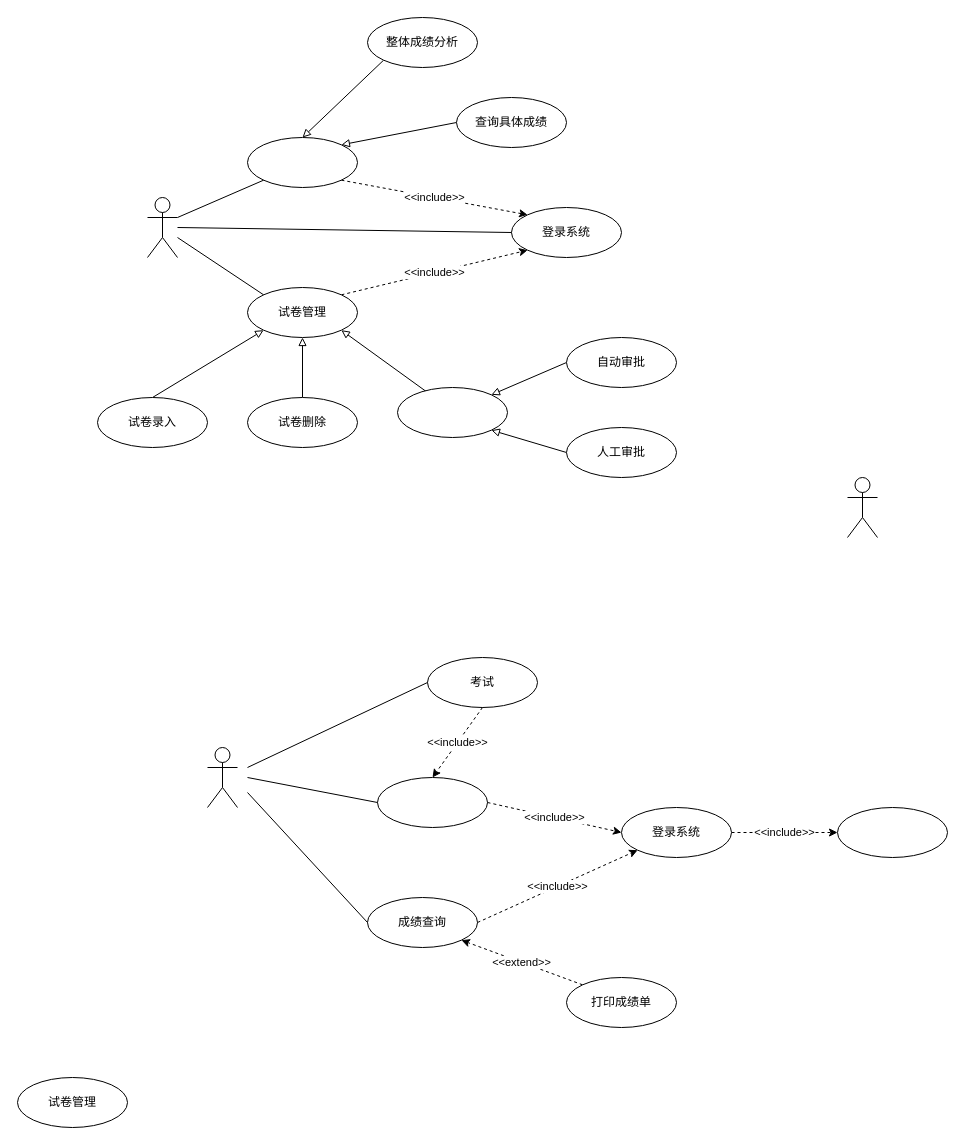
This 965x1145 diagram has some shape labels left out. Each missing label, with the centre of its shape:
"成绩查看" goes at (x=302, y=162).
"报名缴费" goes at (x=432, y=802).
"教师" goes at (x=162, y=227).
"管理人员" goes at (x=862, y=507).
"考生" goes at (x=222, y=777).
"考生注册" goes at (x=892, y=832).
"试卷审批" goes at (x=452, y=412).
